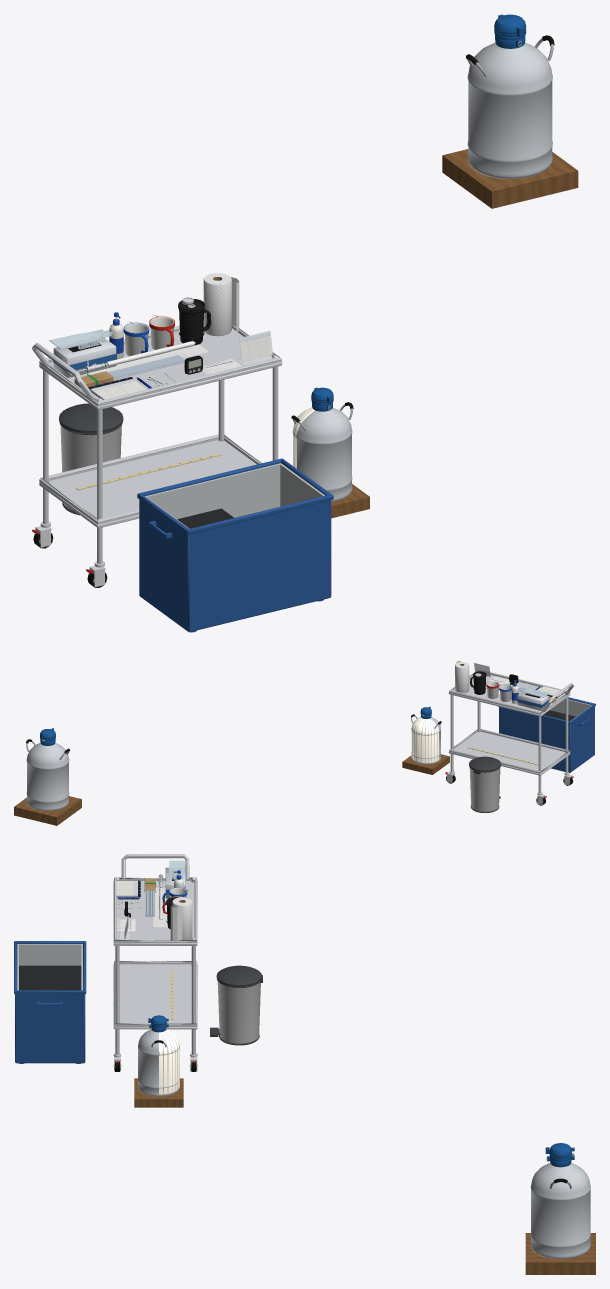
Rendered from ai_kit-Bti9k6R3.glb.
3 views of the same model, one above another, from view 1: azimuth 30°, elevation 25°; view 2: azimuth 150°, elevation 25°; view 3: azimuth 270°, elevation 25° (orthographic). The views are drawn at different scales.
Visible parts, largest first — view 1: SET_kit_box, SET_trolley, ST_tank, LN_tank, ST_stand, SET_towel_roll, BIN_waste, SET_glove_box, BIN_waste_lid, SET_sheath_pack, SET_plan_card, TH_flask; view 2: SET_trolley, SET_kit_box, ST_tank, BIN_waste, LN_cutaway, ST_stand, LN_tank, LN_stand, SET_towel_roll, SET_glove_box, BIN_waste_lid; view 3: SET_trolley, SET_kit_box, ST_tank, BIN_waste, LN_tank, ST_stand, LN_cutaway, SET_towel_roll, LN_stand, BIN_waste_lid.
Part boxes in pixels (left/top/right/bottom): SET_kit_box: left=137, top=458, right=333, bottom=632; SET_trolley: left=32, top=325, right=282, bottom=587; ST_tank: left=466, top=35, right=554, bottom=178; LN_tank: left=291, top=402, right=353, bottom=502; ST_stand: left=442, top=149, right=578, bottom=208; SET_towel_roll: left=203, top=273, right=239, bottom=336; BIN_waste: left=60, top=423, right=122, bottom=515; SET_glove_box: left=53, top=338, right=116, bottom=377; BIN_waste_lid: left=59, top=403, right=123, bottom=433; SET_sheath_pack: left=74, top=353, right=188, bottom=387; SET_plan_card: left=238, top=330, right=272, bottom=365; TH_flask: left=178, top=306, right=211, bottom=345; SET_trolley: left=445, top=670, right=573, bottom=805; SET_kit_box: left=498, top=697, right=595, bottom=772; ST_tank: left=26, top=739, right=69, bottom=810; BIN_waste: left=469, top=767, right=500, bottom=812; LN_cutaway: left=411, top=717, right=438, bottom=764; ST_stand: left=14, top=796, right=81, bottom=825; LN_tank: left=411, top=714, right=441, bottom=764; LN_stand: left=402, top=754, right=449, bottom=774; SET_towel_roll: left=455, top=661, right=469, bottom=693; SET_glove_box: left=517, top=692, right=549, bottom=710; BIN_waste_lid: left=469, top=756, right=501, bottom=771; SET_trolley: left=113, top=854, right=197, bottom=1071; SET_kit_box: left=14, top=941, right=86, bottom=1063; ST_tank: left=530, top=1153, right=590, bottom=1259; BIN_waste: left=217, top=975, right=262, bottom=1045; LN_tank: left=138, top=1022, right=179, bottom=1096; ST_stand: left=525, top=1233, right=595, bottom=1274; LN_cutaway: left=159, top=1029, right=179, bottom=1096; SET_towel_roll: left=170, top=897, right=192, bottom=941; LN_stand: left=134, top=1078, right=183, bottom=1107; BIN_waste_lid: left=216, top=965, right=261, bottom=986.
Size of the model in its own units: 3.83 by 1.09 by 3.48.
74 materials, 13 textured.
